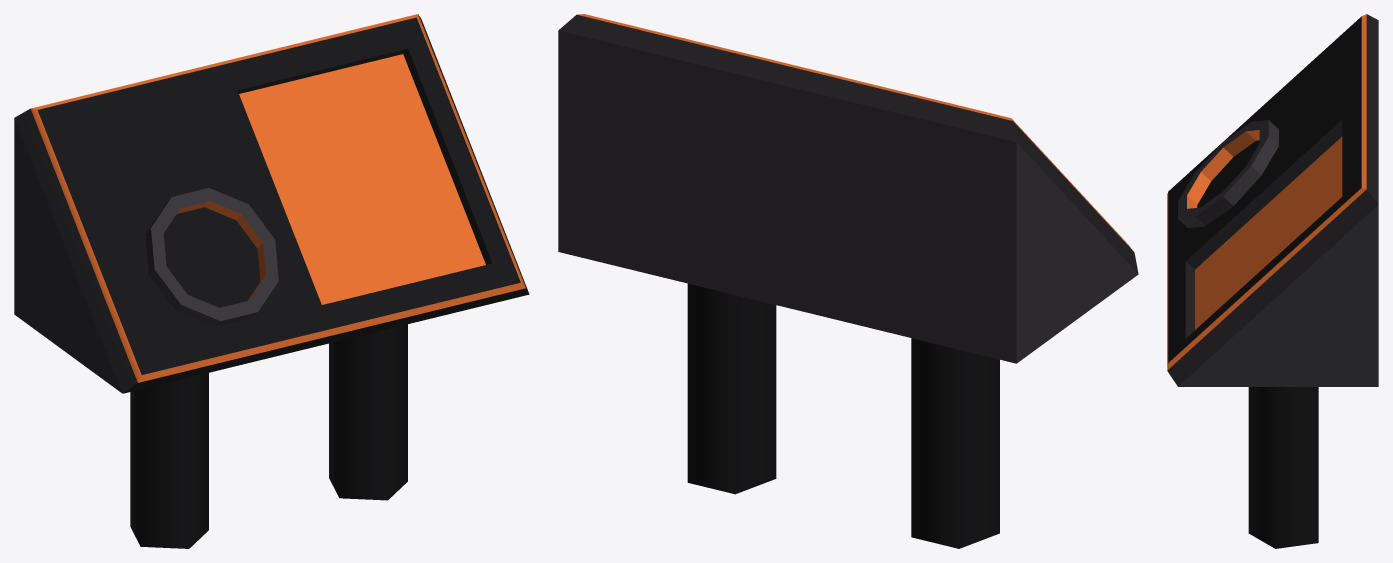
The model's file is Door_Panel.fbx.
3 renders of one model, left to right at view 1: azimuth 30°, elevation 25°; view 2: azimuth 150°, elevation 25°; view 3: azimuth 270°, elevation 25°, orthographic. The views are drawn at different scales.
Parts seen in each view (by area): view 1: Door_Panel; view 2: Door_Panel; view 3: Door_Panel.
Part boxes in pixels (x1,y1,x2,y2): Door_Panel: (14,14,529,548); Door_Panel: (558,14,1138,548); Door_Panel: (1167,14,1378,548).
Size of the model in its own units: 144 by 141 by 69.83.
